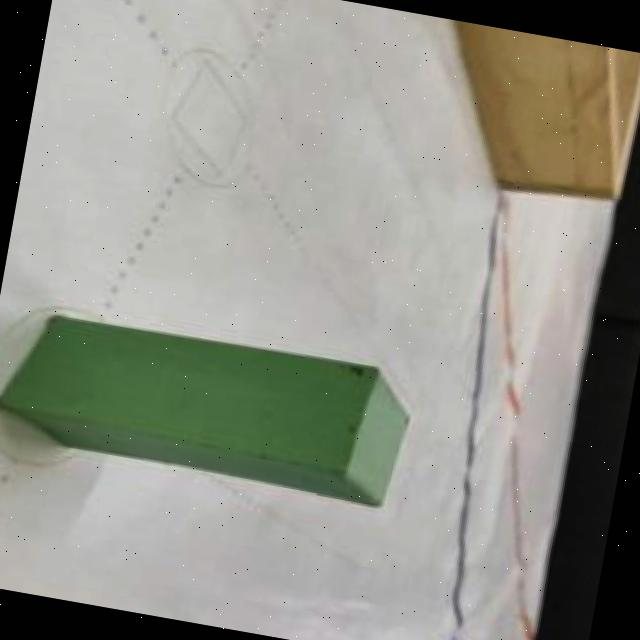greenbox: (0, 297, 425, 513)
